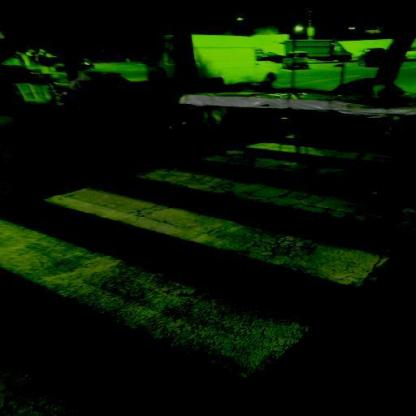crosswalk: (33, 164, 409, 298)
